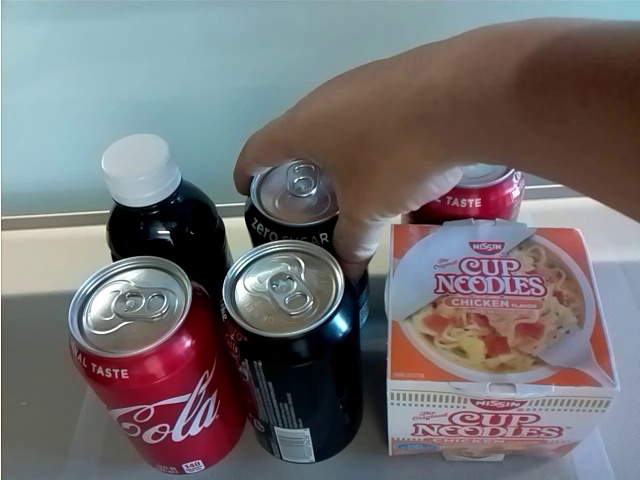cocacola: (68, 256, 249, 478), (400, 160, 525, 223)
cocacola-zero: (219, 240, 369, 467), (243, 151, 353, 248)
hand: (237, 28, 466, 274)
juice: (97, 128, 231, 289)
noodles: (384, 220, 621, 466)
